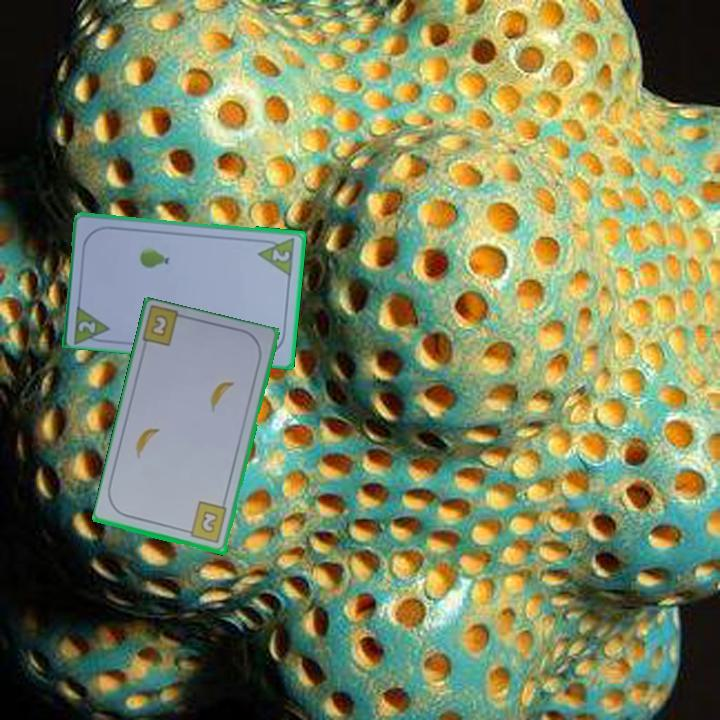2b: (181, 499, 230, 546), (147, 311, 171, 340)
2p: (255, 234, 298, 278), (74, 317, 99, 336)
